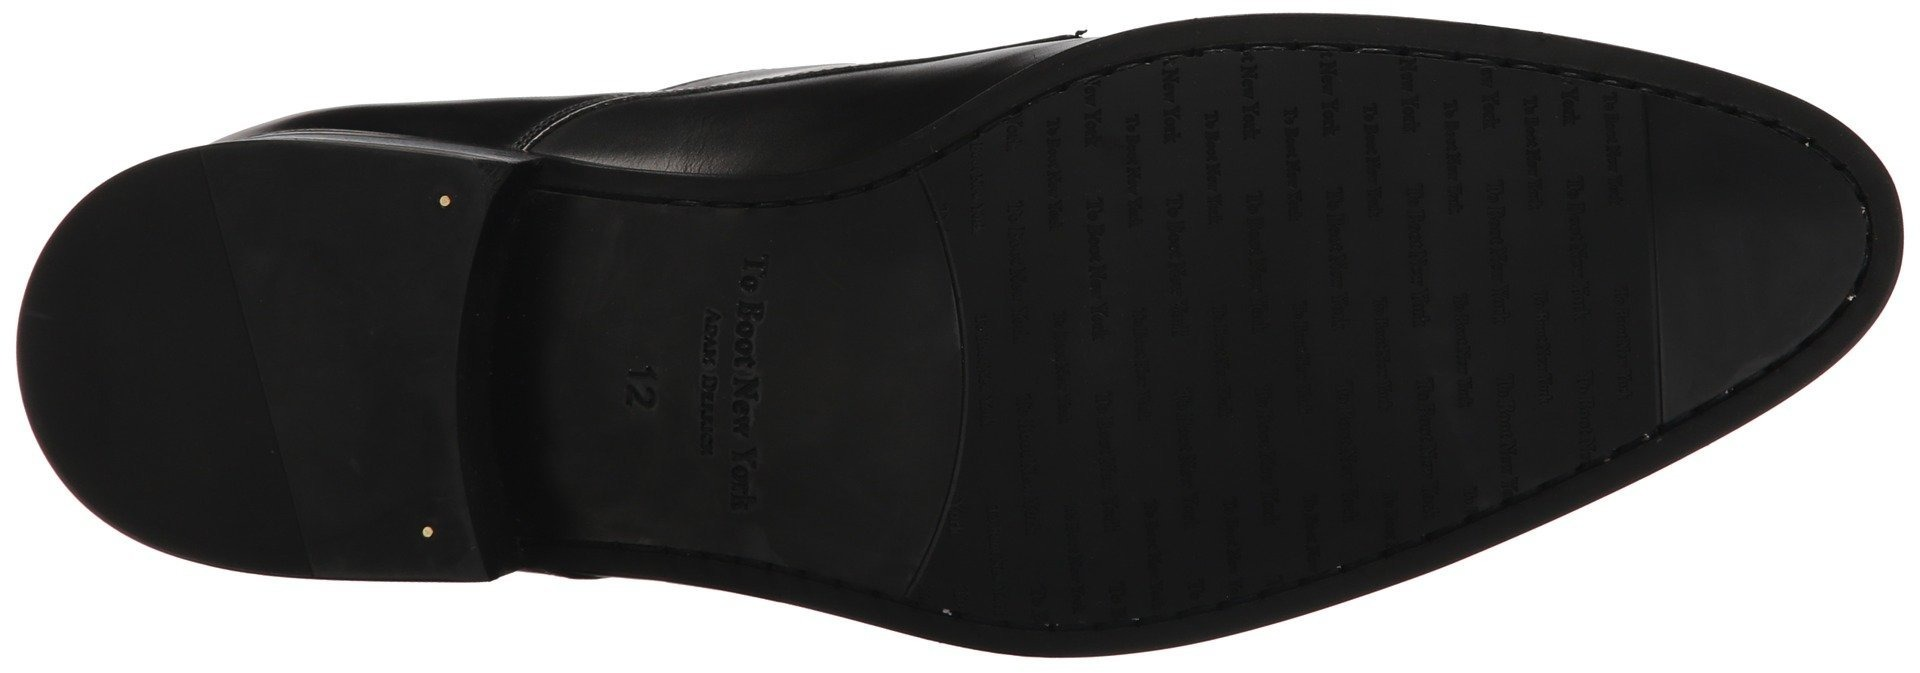other: (111, 187, 418, 503), (1667, 159, 1824, 339)
text: (997, 100, 1281, 385), (1284, 84, 1534, 325), (1016, 420, 1209, 617), (1292, 341, 1474, 530), (1509, 336, 1619, 465)
